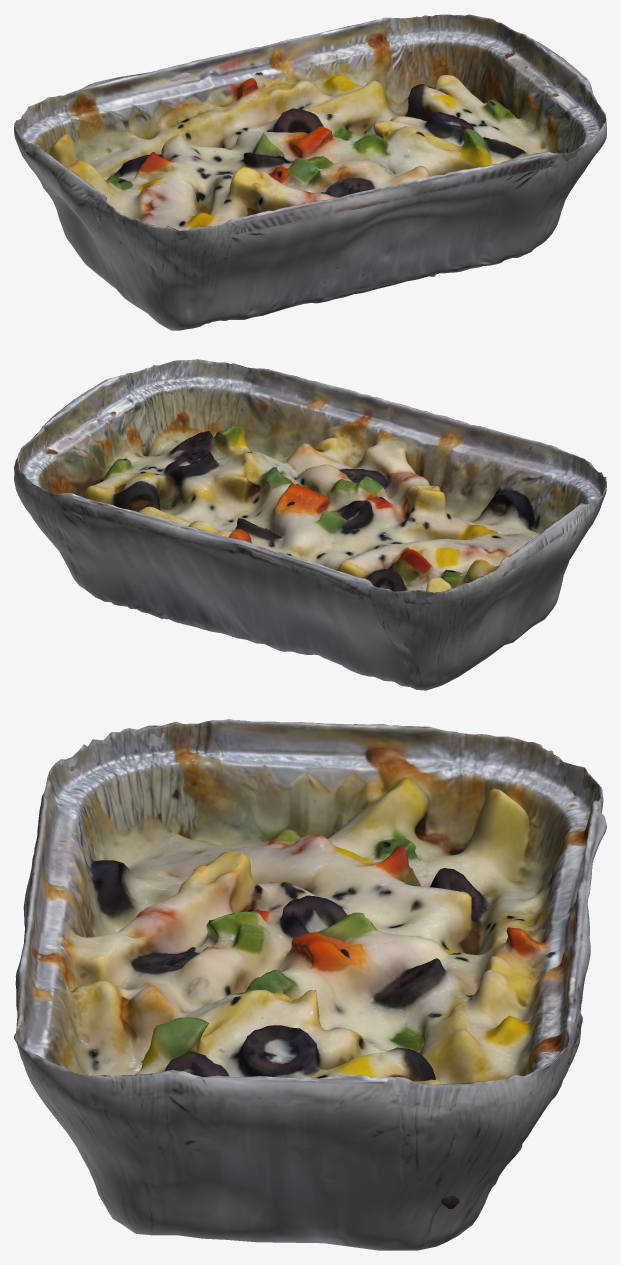
File: bell.glb
3 views of the same model, one above another, from view 1: azimuth 30°, elevation 25°; view 2: azimuth 150°, elevation 25°; view 3: azimuth 270°, elevation 25° (orthographic). The views are drawn at different scales.
Visible parts, largest first — view 1: 3DModel; view 2: 3DModel; view 3: 3DModel.
Boxes of the visible parts, <box> form: 3DModel: <box>14,14,606,330</box>; 3DModel: <box>14,359,606,690</box>; 3DModel: <box>14,719,606,1250</box>.
Size of the model in its own units: 0.3016 by 0.0855 by 0.2013.
Materials: 1 (1 with a texture image).
